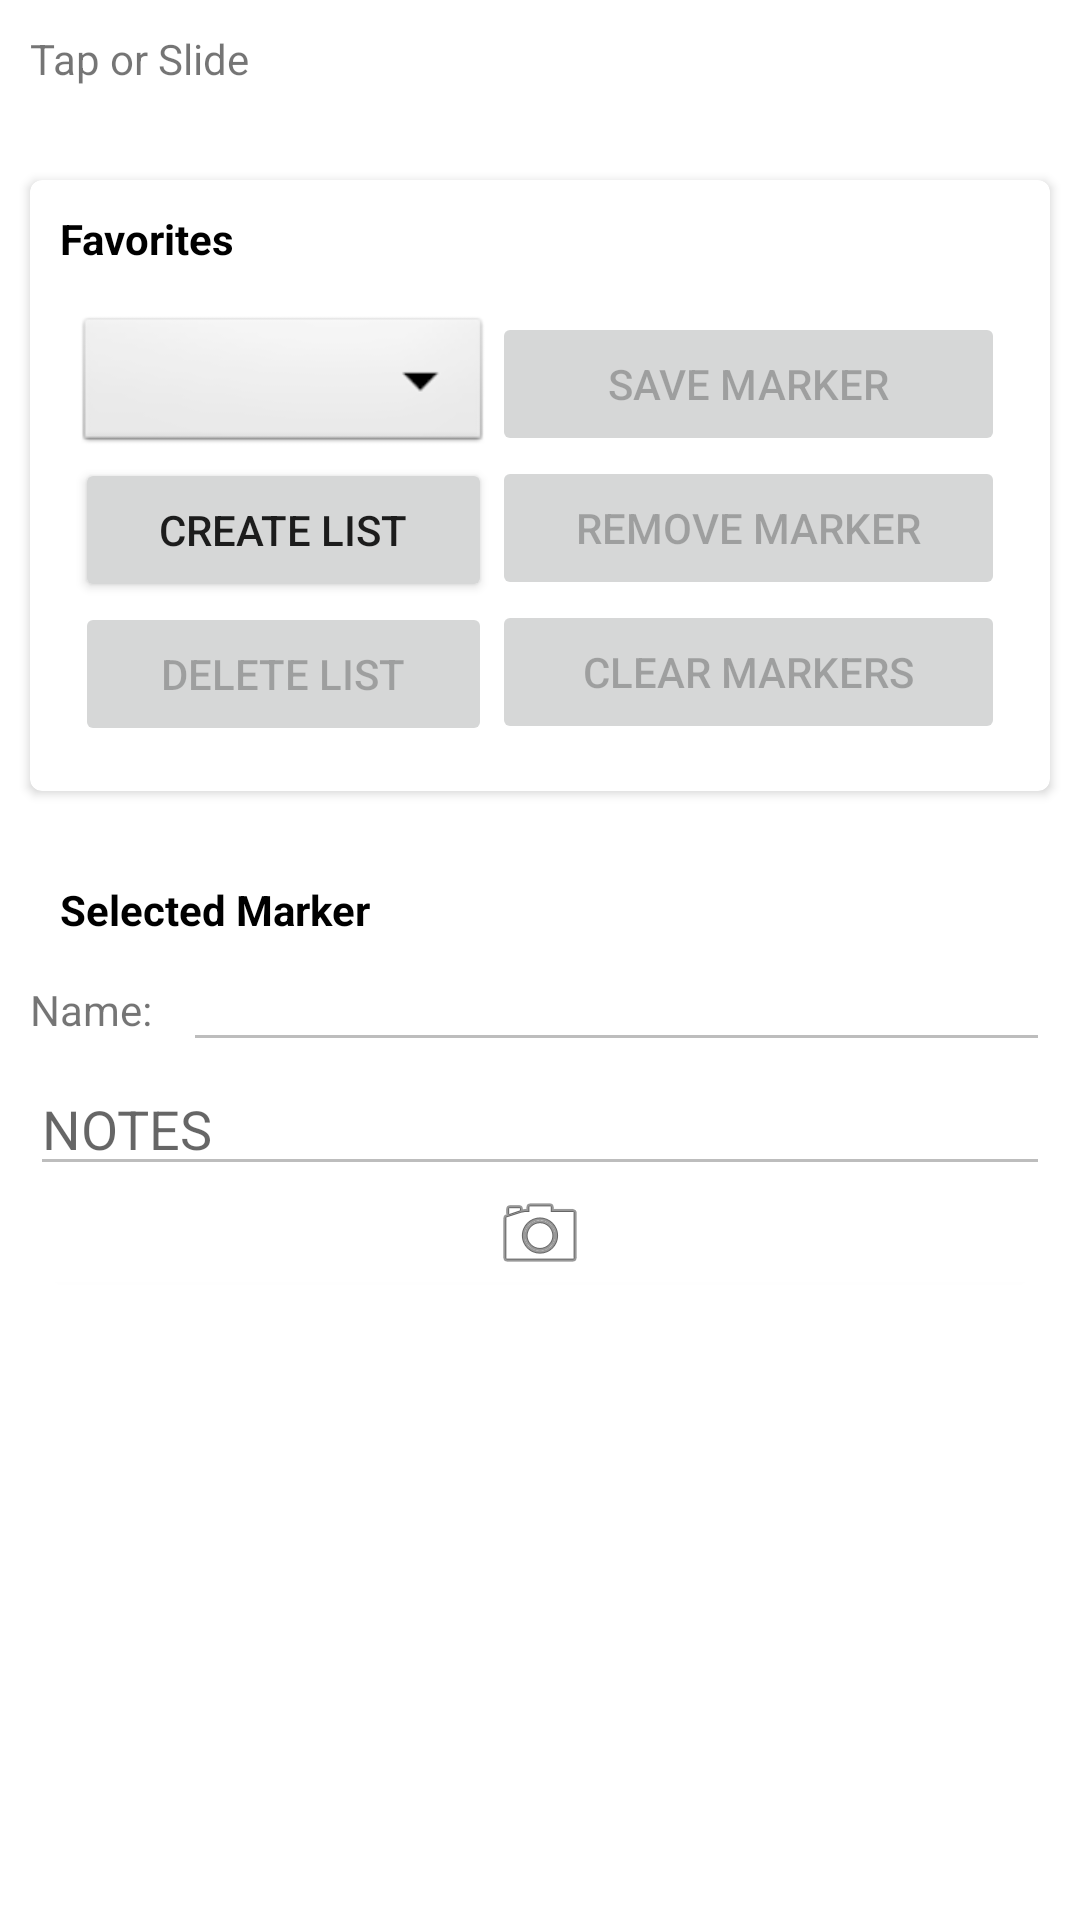

Named icons in this screenshot (1080×1920) and their centers, (x,y):
camera: (540,1232)
